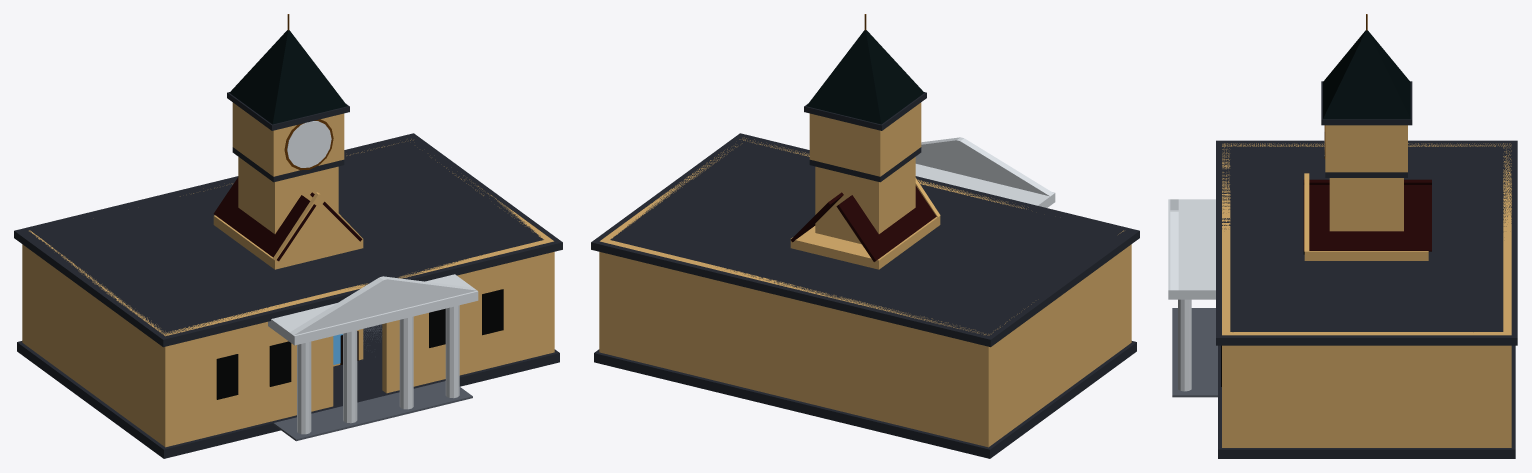
Rendered from oldtown_kit.glb.
The picture shows the model from 3 angles, left to right: view 1: azimuth 30°, elevation 25°; view 2: azimuth 150°, elevation 25°; view 3: azimuth 270°, elevation 25°; orthographic projection.
Visible parts, largest first — view 1: SM_OT_Museum, SM_OT_MuseumRoof, SM_OT_ClockTower, SM_OT_HouseA; view 2: SM_OT_Museum, SM_OT_MuseumRoof, SM_OT_ClockTower, SM_OT_HouseA; view 3: SM_OT_MuseumRoof, SM_OT_Museum, SM_OT_ClockTower, SM_OT_HouseA.
Boxes of the visible parts, <box> form: SM_OT_Museum: <box>17,139,559,458</box>; SM_OT_MuseumRoof: <box>14,133,562,347</box>; SM_OT_ClockTower: <box>227,14,349,233</box>; SM_OT_HouseA: <box>213,177,363,366</box>; SM_OT_Museum: <box>594,137,1136,458</box>; SM_OT_MuseumRoof: <box>591,133,1139,347</box>; SM_OT_ClockTower: <box>804,14,926,244</box>; SM_OT_HouseA: <box>790,178,940,269</box>; SM_OT_MuseumRoof: <box>1168,140,1517,345</box>; SM_OT_Museum: <box>1172,143,1515,458</box>; SM_OT_ClockTower: <box>1321,14,1412,231</box>; SM_OT_HouseA: <box>1303,173,1431,260</box>.
Bounding box in the file's own units: 22.6 × 18.5 × 16.9.
14 materials, 14 textured.
